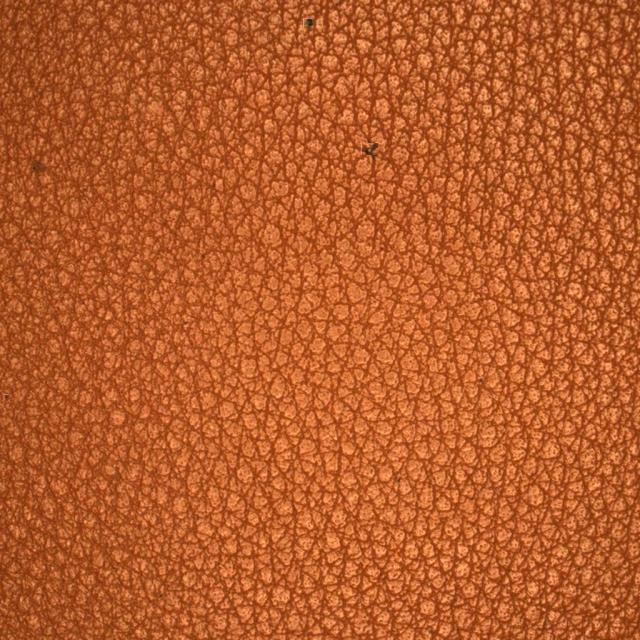Hole: (279, 104, 481, 210)
pinhole: (236, 4, 402, 96)
